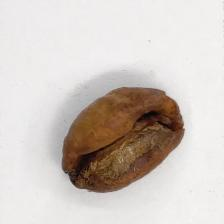NG: (66, 117, 177, 193)
